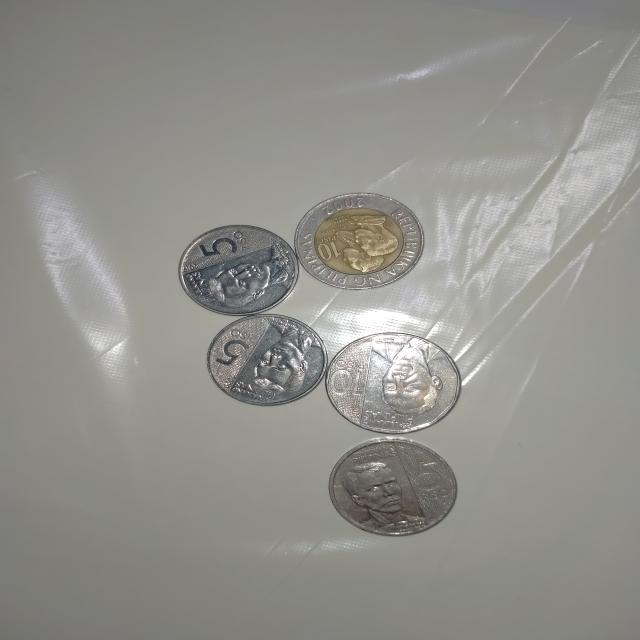10_New_Front: (332, 338, 442, 425)
10_Old_Front: (301, 193, 412, 288)
5_New_Front: (190, 225, 298, 315), (203, 318, 313, 397)
